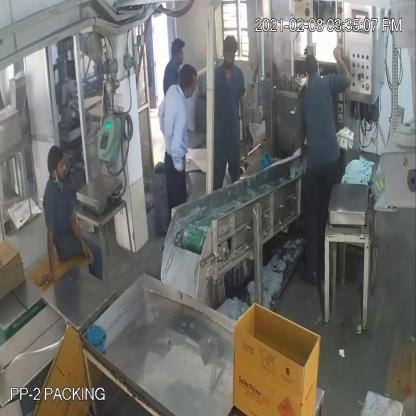no_glove: (30, 209, 60, 294), (64, 201, 98, 273), (169, 108, 191, 180), (331, 41, 354, 91), (239, 86, 249, 138)
